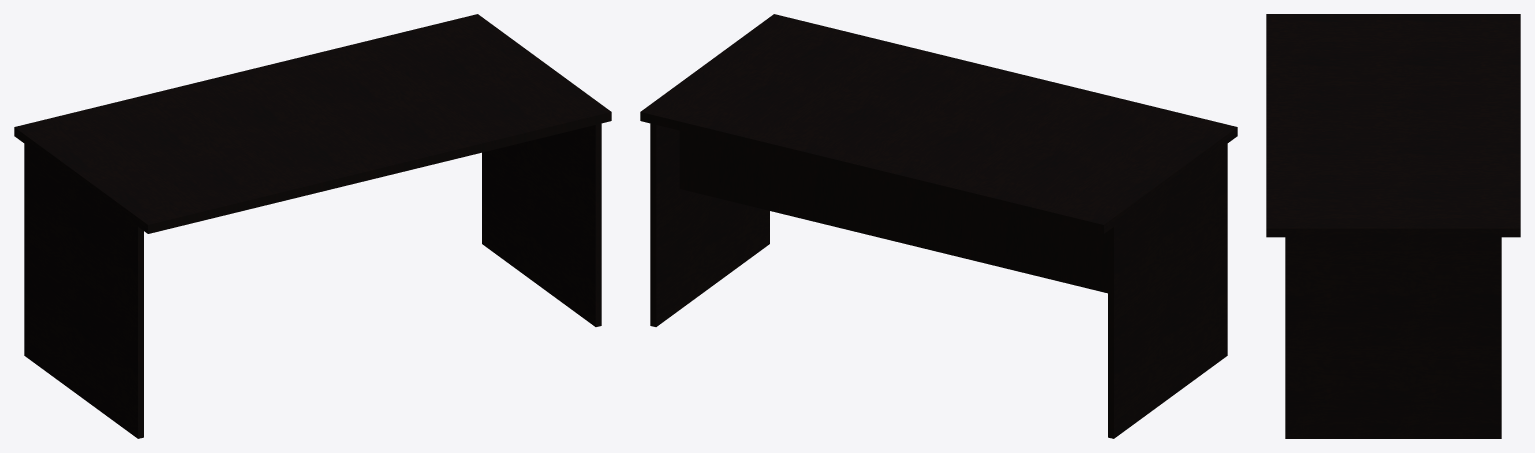
The model's file is wood-desk.glb.
The picture shows the model from 3 angles, left to right: view 1: azimuth 30°, elevation 25°; view 2: azimuth 150°, elevation 25°; view 3: azimuth 270°, elevation 25°; orthographic projection. The views are drawn at different scales.
Parts seen in each view (by area): view 1: Mesh_0; view 2: Mesh_0; view 3: Mesh_0.
Boxes of the visible parts, x1,y1,x2,y2 form: Mesh_0: (14, 14, 611, 438); Mesh_0: (640, 14, 1237, 438); Mesh_0: (1266, 14, 1520, 438).
Size of the model in its own units: 1.6 by 0.73 by 0.8.
1 material, 1 textured.
